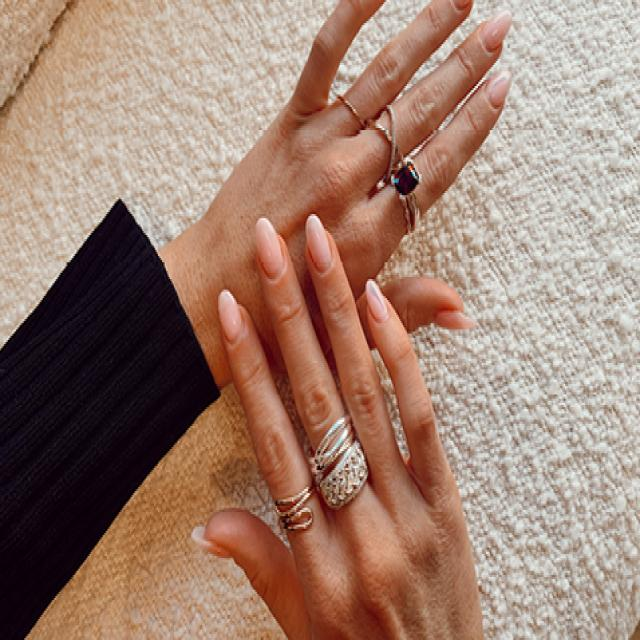Ring: (309, 413, 374, 524), (385, 137, 442, 250), (263, 480, 330, 538), (374, 94, 400, 183), (334, 86, 365, 128)
